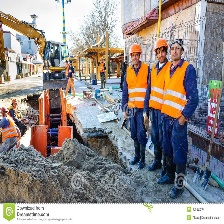helmet: (153, 38, 169, 55), (130, 43, 143, 55)
person: (167, 37, 200, 198), (120, 43, 151, 171), (147, 35, 169, 182)
vest: (169, 65, 192, 129), (124, 65, 152, 113), (153, 59, 169, 122)
